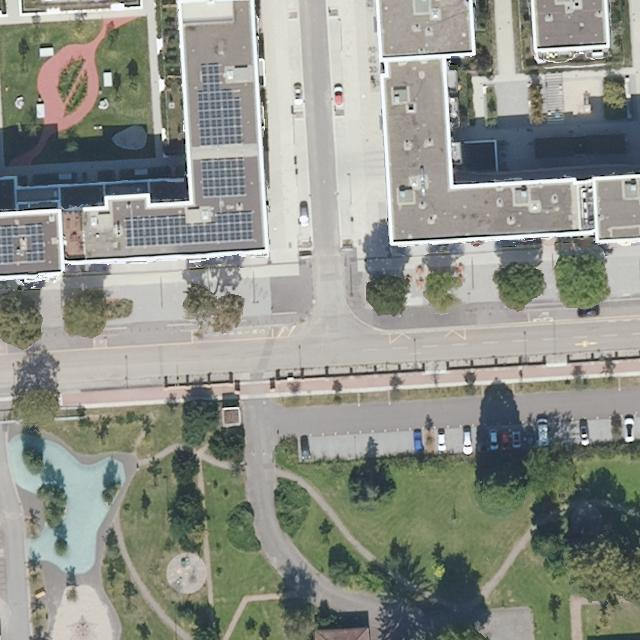PV: (122, 208, 256, 250), (194, 58, 247, 148), (198, 155, 250, 199), (1, 221, 47, 268)
